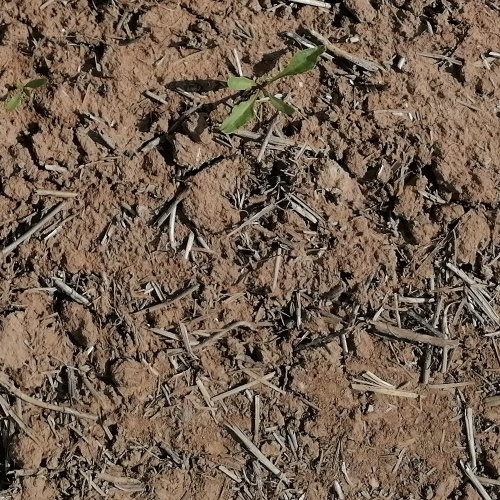beet: (217, 45, 327, 136), (7, 78, 49, 111)
